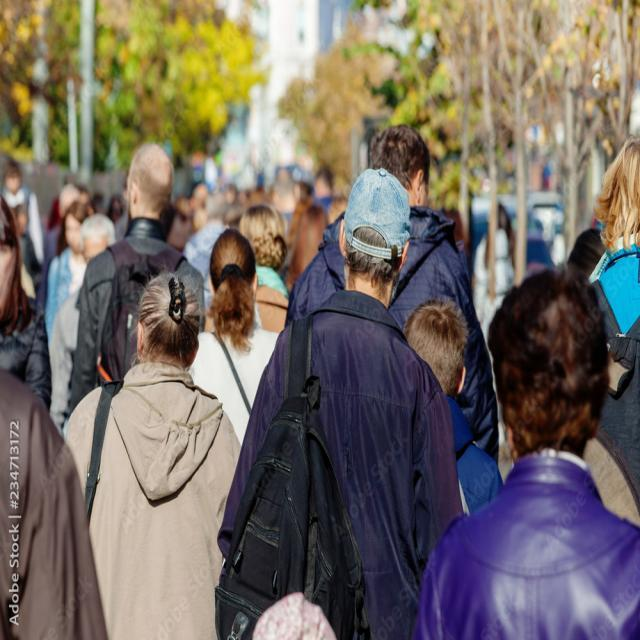Backpacks: (214, 382, 368, 640)
